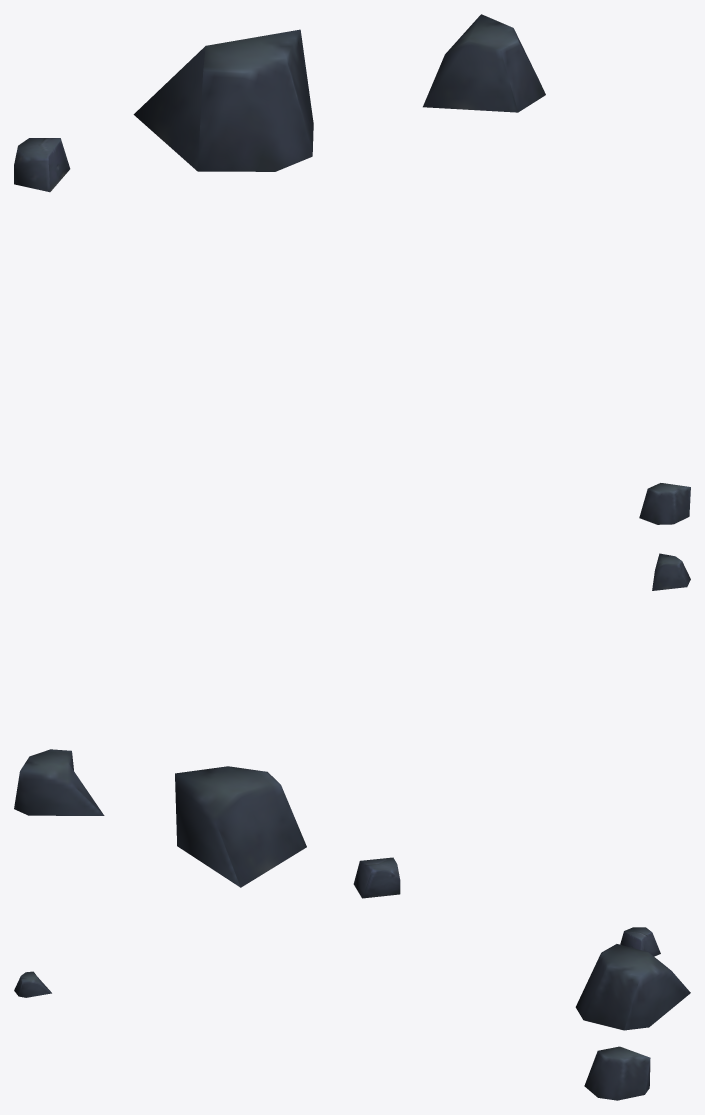
The model's file is shitou13.fbx.
The picture shows the model from 3 angles, top to bottom: view 1: azimuth 30°, elevation 25°; view 2: azimuth 150°, elevation 25°; view 3: azimuth 270°, elevation 25°; orthographic projection. The views are drawn at different scales.
Parts seen in each view (by area): view 1: shitou13; view 2: shitou13; view 3: shitou13.
Boxes of the visible parts, box(x1,y1,x2,y2) form: shitou13: box(14, 14, 690, 524); shitou13: box(14, 553, 690, 898); shitou13: box(14, 927, 690, 1100).
Size of the model in its own units: 948 by 164 by 1788.
